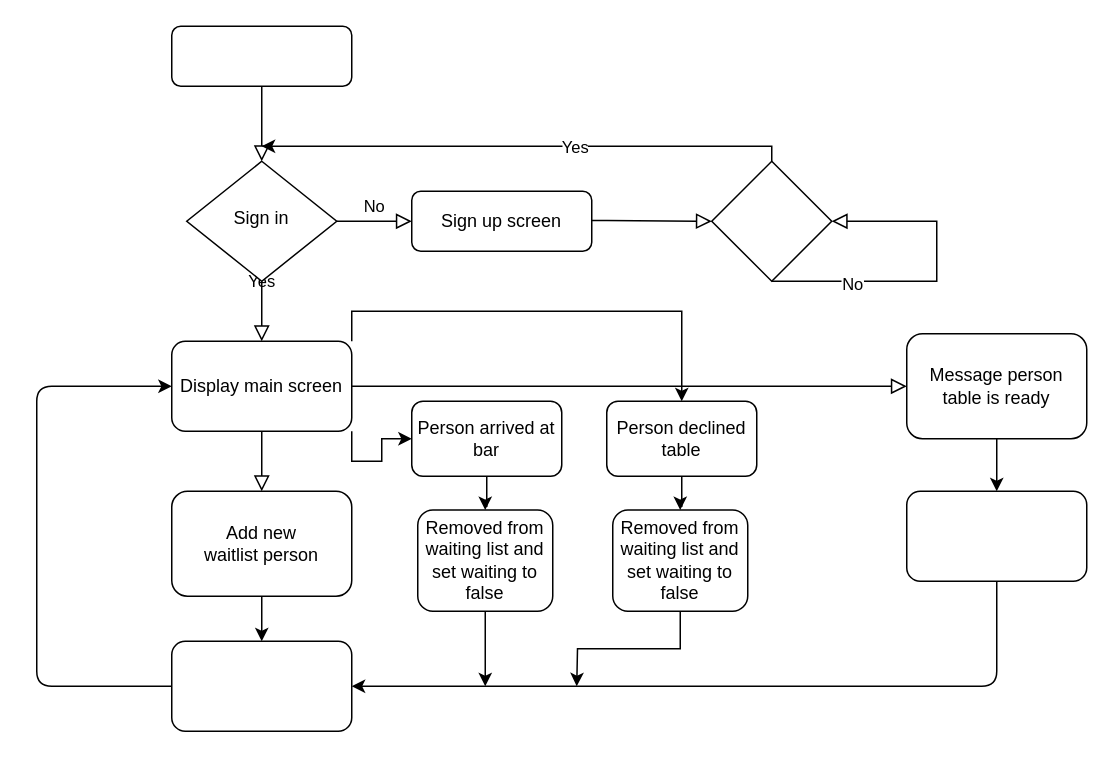
This 1113x758 diagram has some shape labels left out. The shapes that lost their labels are listed below. From the top down, each one's centre as x and y in pixels, then its label:
At pixel 261 55: "User opens app".
At pixel 771 220: "Confirm email".
At pixel 996 535: "+1 to contacted person record Move to arriving table".
At pixel 261 685: "Update screen".
